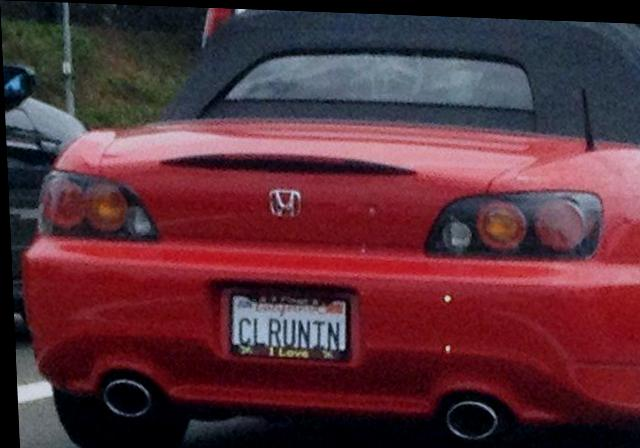License_Plate: (221, 282, 358, 375)
